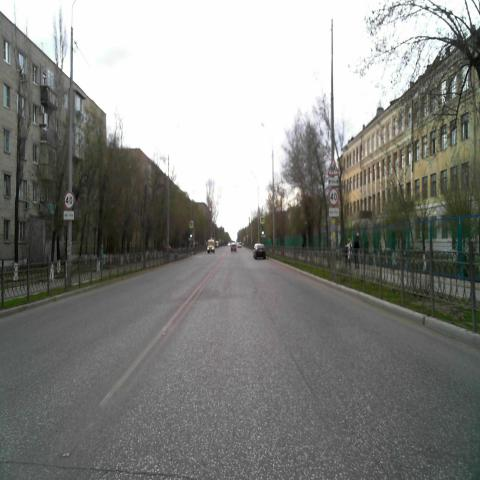1_23: (328, 158, 338, 175)
3_24: (63, 191, 75, 210), (329, 187, 338, 205)
8_2_1: (329, 176, 338, 186)
8_5_4: (64, 210, 74, 220)
